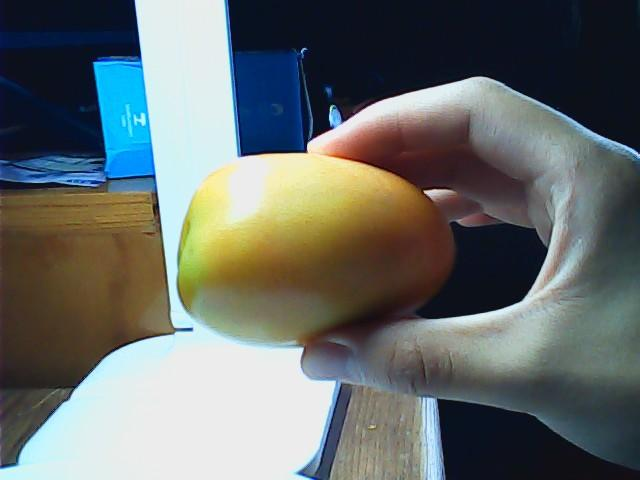verde: (175, 154, 455, 351)
